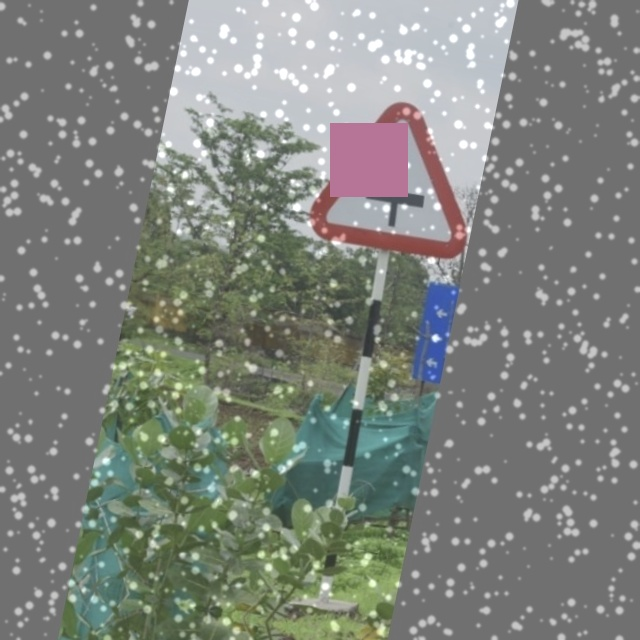T_Intersection: (314, 89, 484, 259)
